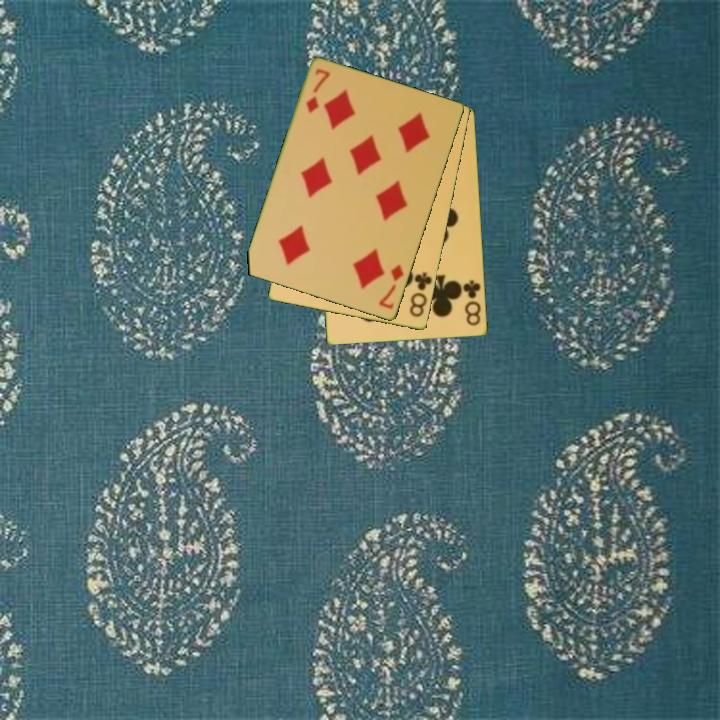7d: (376, 261, 407, 312), (303, 65, 333, 116)
8c: (406, 269, 435, 320), (460, 276, 484, 329)
